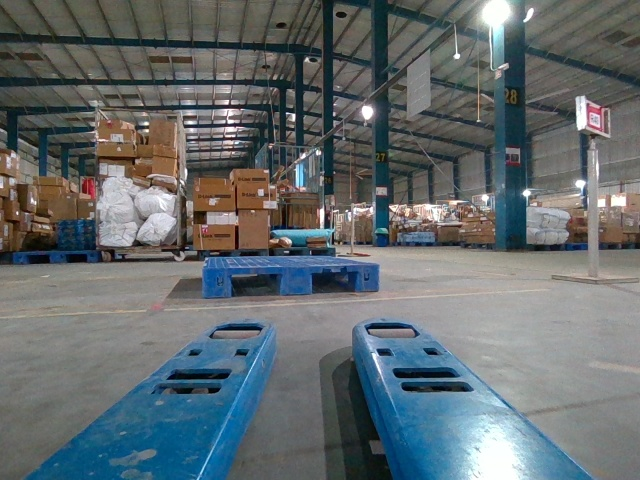block: (281, 264, 315, 294), (201, 267, 231, 300), (356, 263, 380, 297)
front: (203, 264, 379, 297)
hole pallet: (228, 268, 287, 297), (310, 262, 361, 294)
